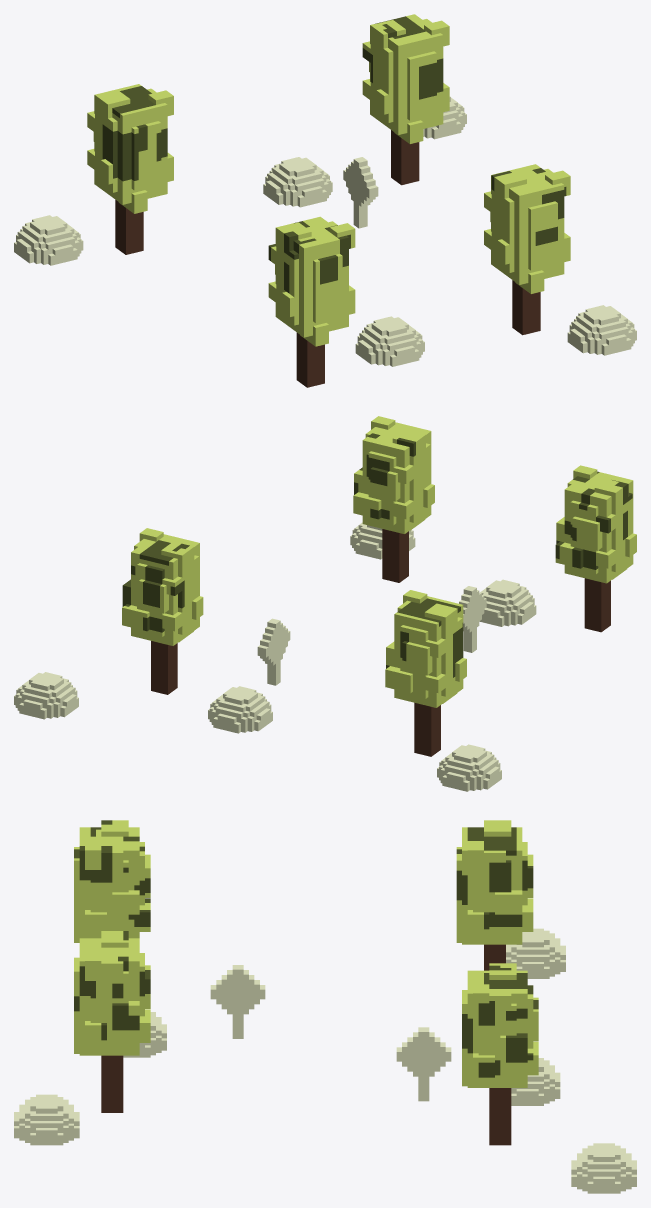
File: дорога1.obj
3 views of the same model, one above another, from view 1: azimuth 30°, elevation 25°; view 2: azimuth 150°, elevation 25°; view 3: azimuth 270°, elevation 25° (orthographic). The views are drawn at different scales.
Bounding box in the file's own units: 10.5 × 3.3 × 11.4.
1 material, 1 textured.
